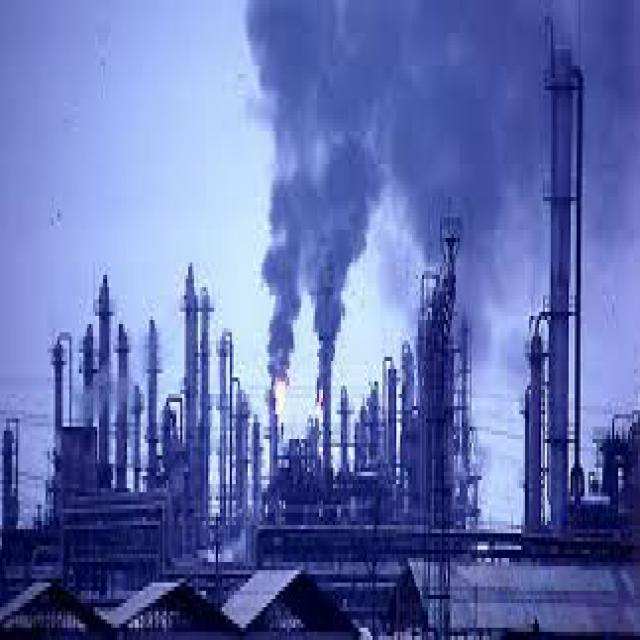Smoke: (218, 0, 640, 440)
